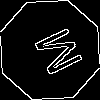M: (25, 25, 84, 83)
